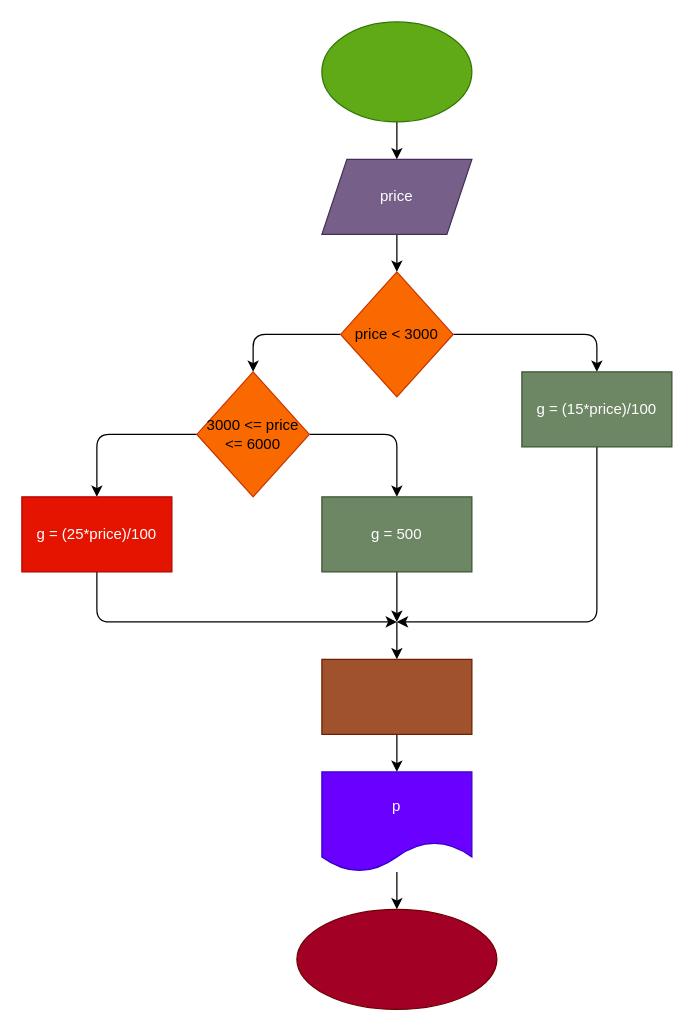
Some shapes in this 694 by 1031 pixel diagram are drawn without their labels. The shapes that lost their labels are listed below. From the top down, each one's centre as x and y in pixels, then its label:
[396,71]: Inicio
[396,696]: p = price +g
[396,958]: fin
